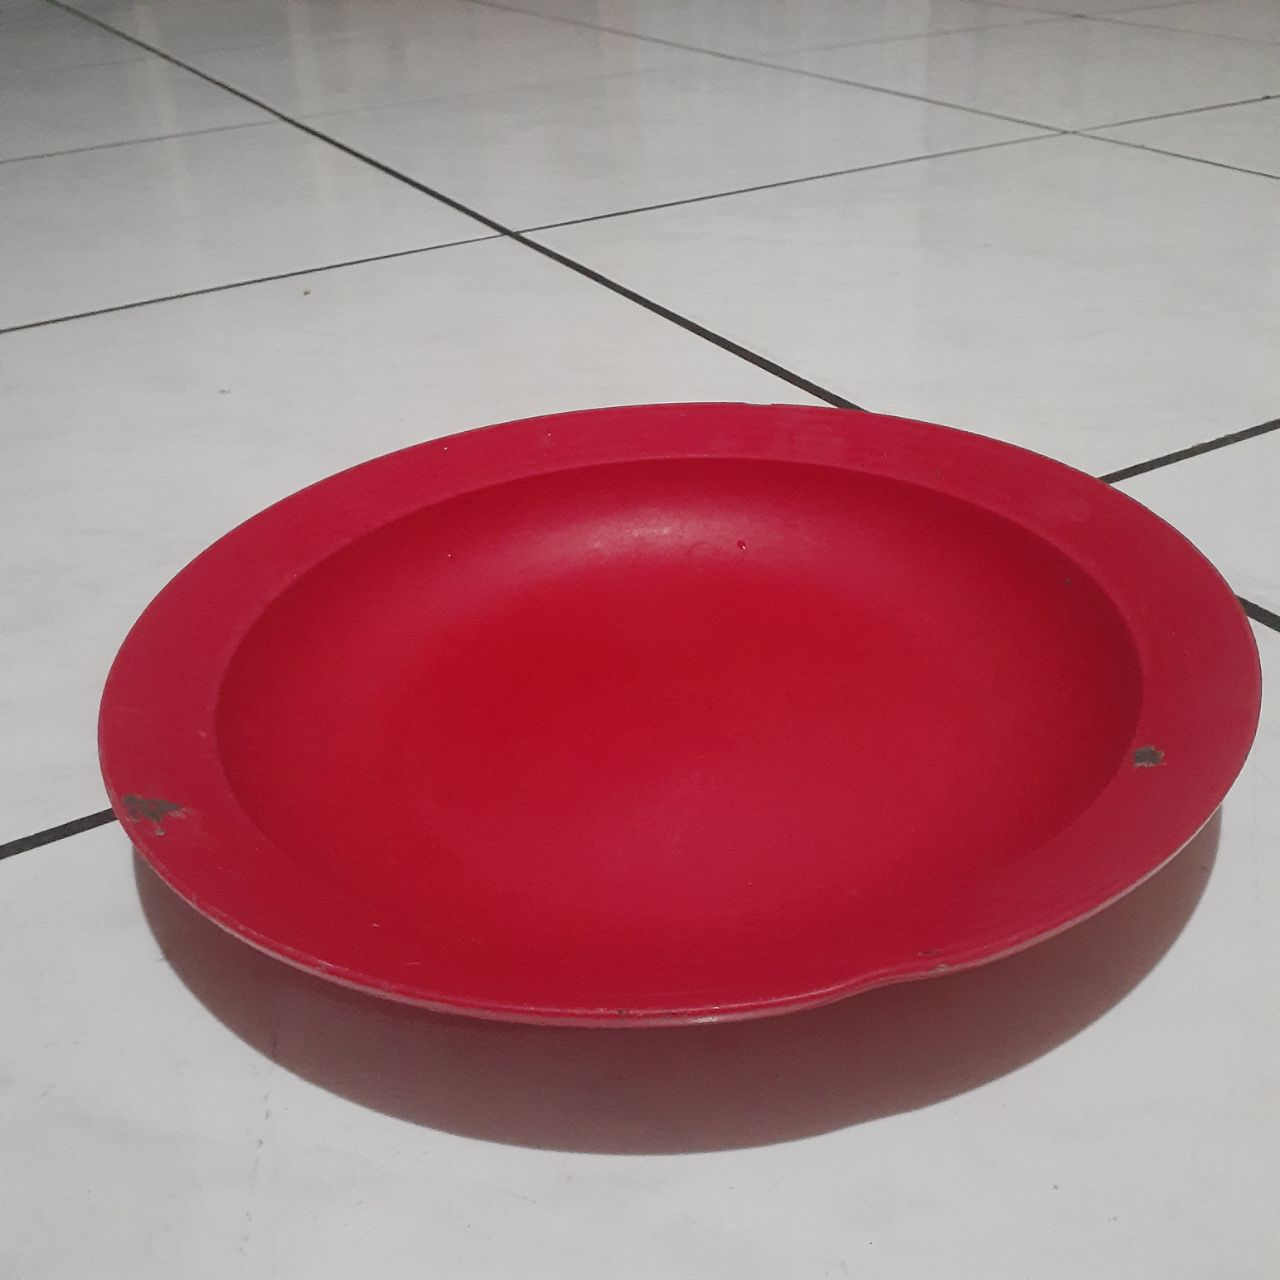piring: (86, 395, 1262, 1016)
